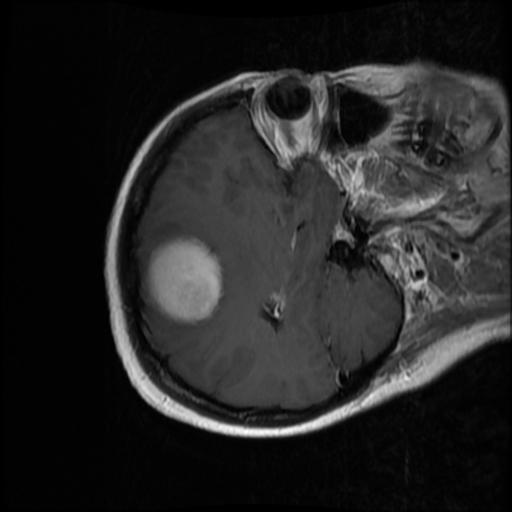meningioma: (145, 235, 223, 322)
